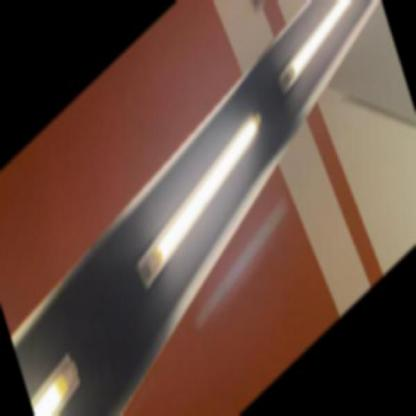light_on: (116, 90, 284, 309), (268, 0, 386, 109), (23, 330, 93, 415)
